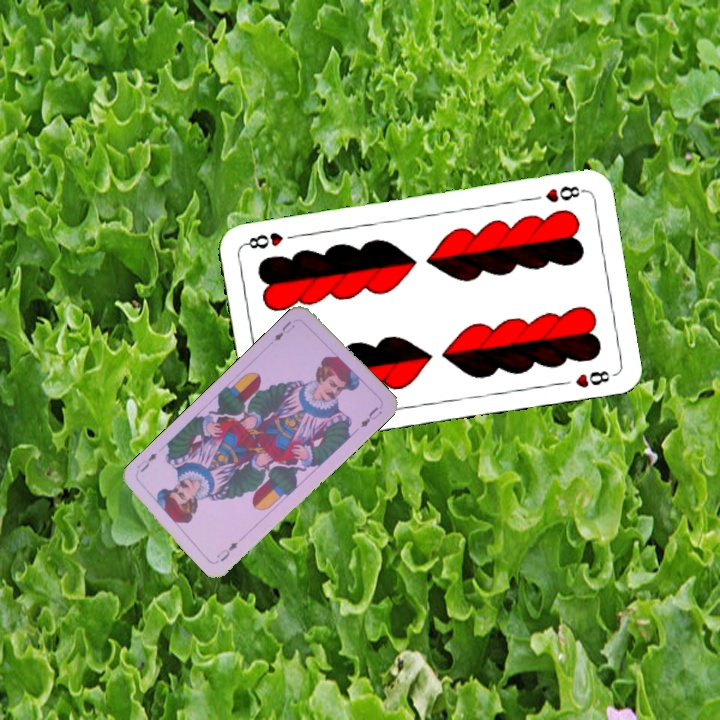EU: (270, 317, 298, 344), (213, 538, 241, 565)
H8: (541, 181, 587, 205)
